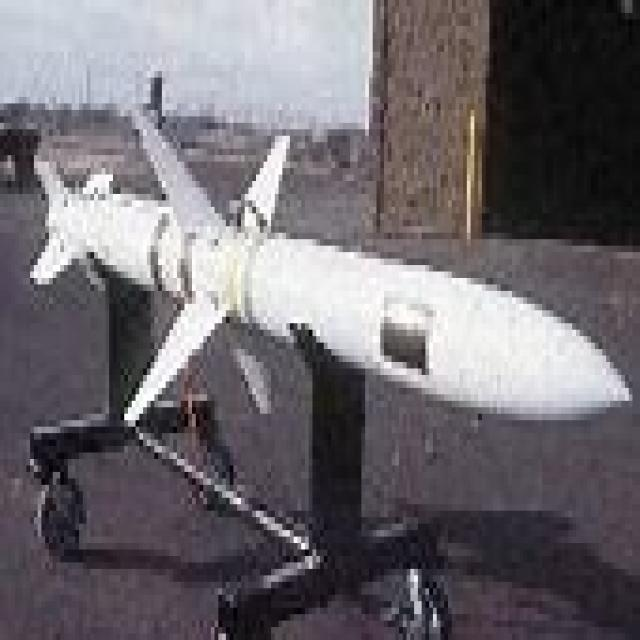missile: (23, 110, 633, 433)
